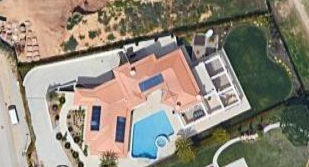pool: (132, 116, 168, 156)
